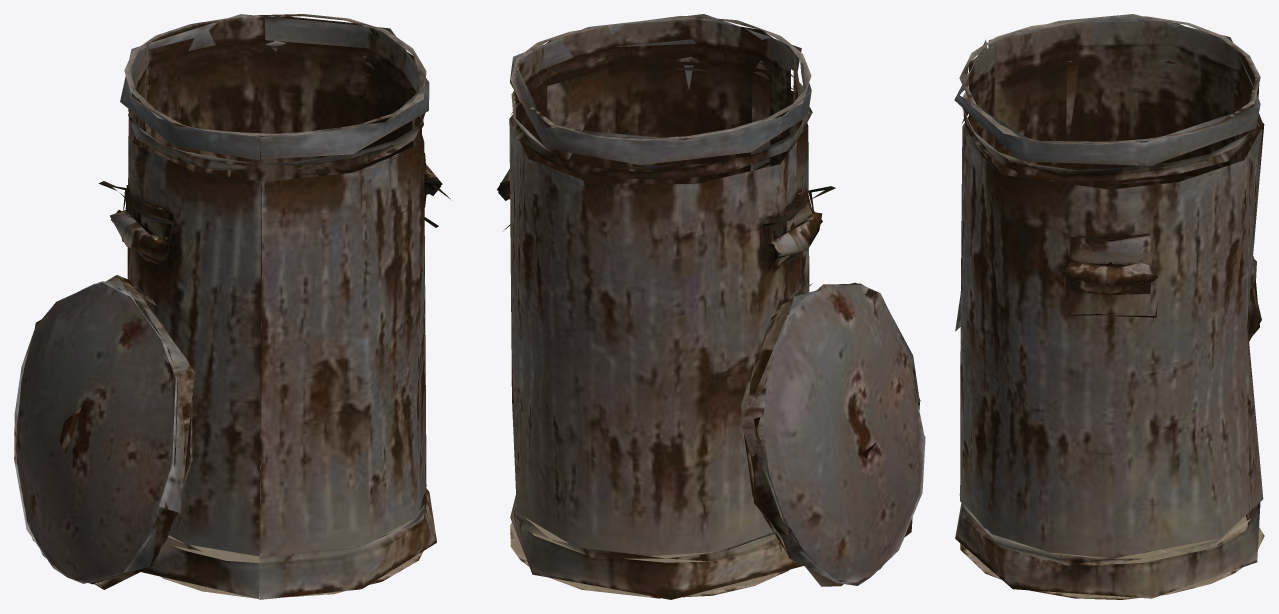
File: lixeira.glb
The picture shows the model from 3 angles, left to right: view 1: azimuth 30°, elevation 25°; view 2: azimuth 150°, elevation 25°; view 3: azimuth 270°, elevation 25°; orthographic projection.
Visible parts, largest first — view 1: Malha; view 2: Malha; view 3: Malha.
Boxes of the visible parts, x1,y1,x2,y2 form: Malha: (14, 14, 450, 599); Malha: (497, 14, 925, 599); Malha: (954, 14, 1264, 599).
Bounding box in the file's own units: 0.7686 × 0.9068 × 0.5568.
2 materials, 2 textured.
